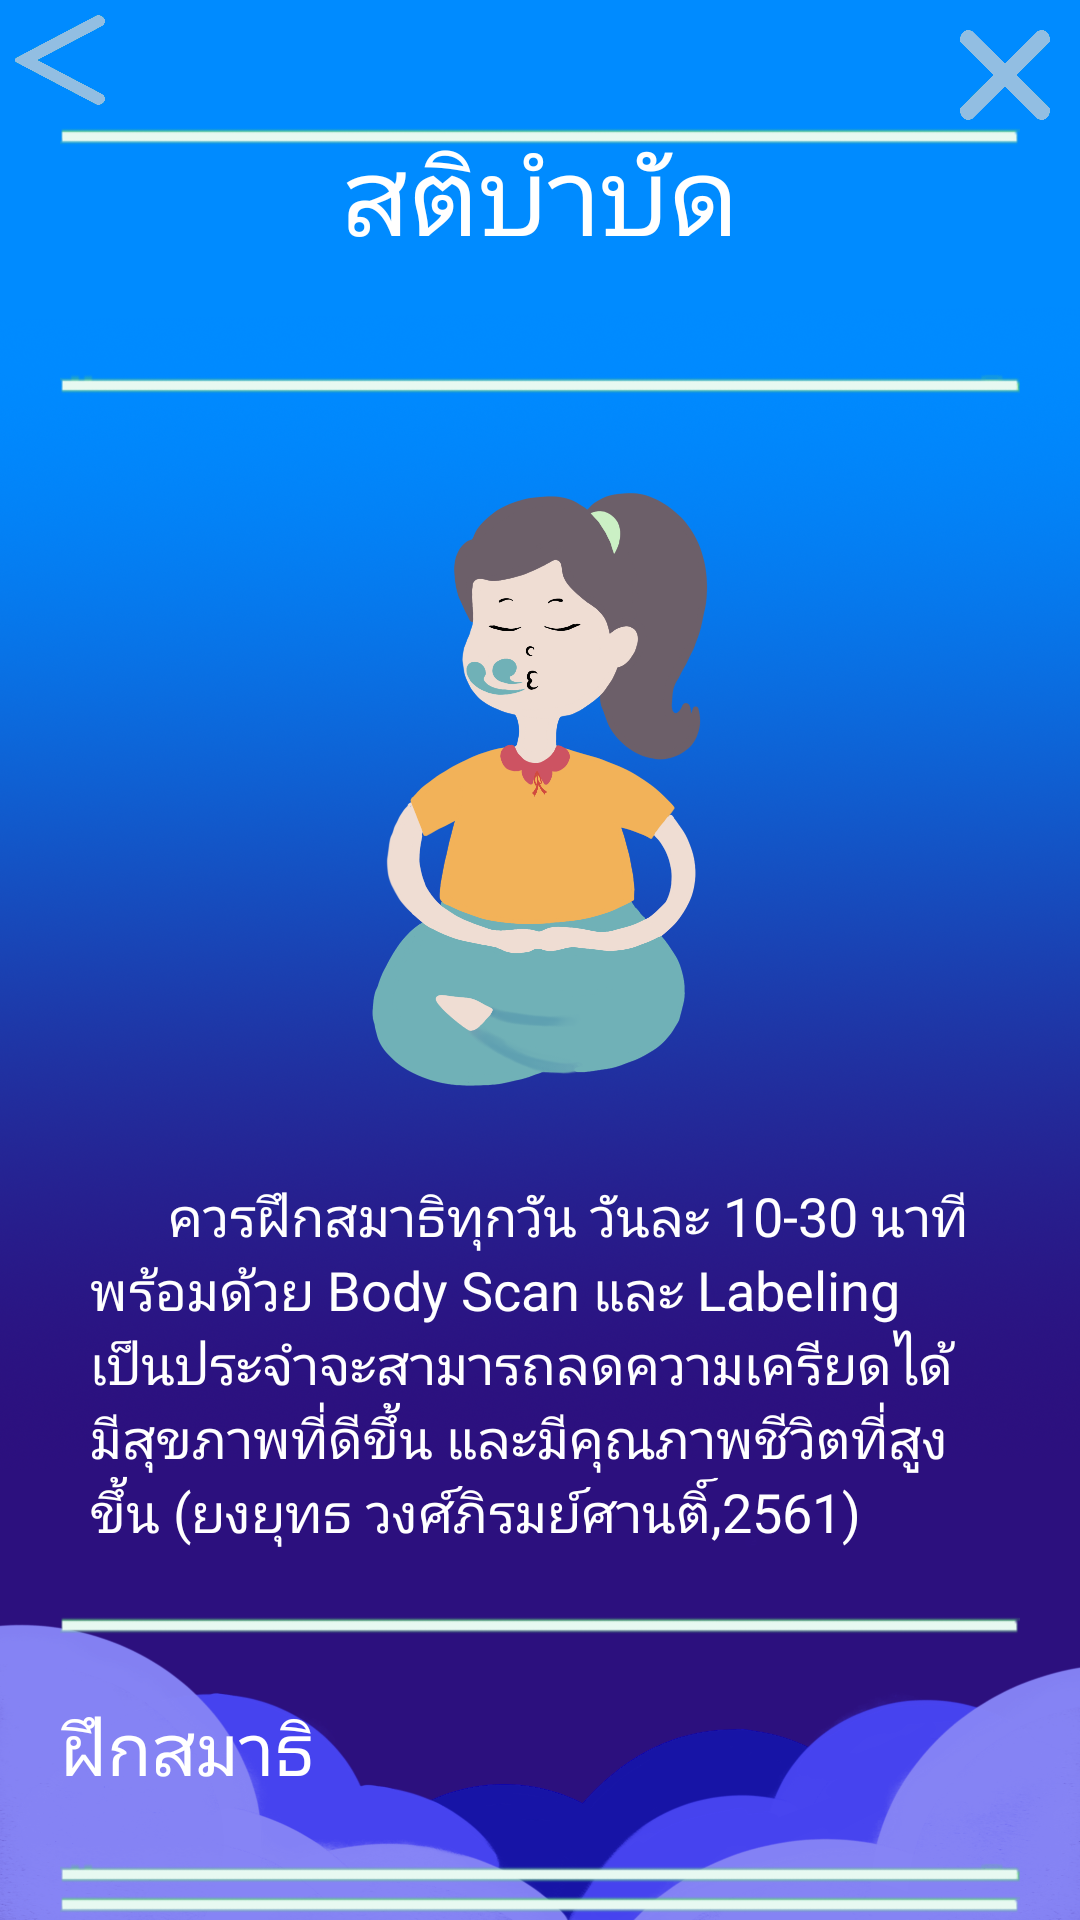

Screen size 1080x1920. Icon name, then its center in pixels as point (x, y):
backbut: point (60, 60)
exit: point (1005, 75)
